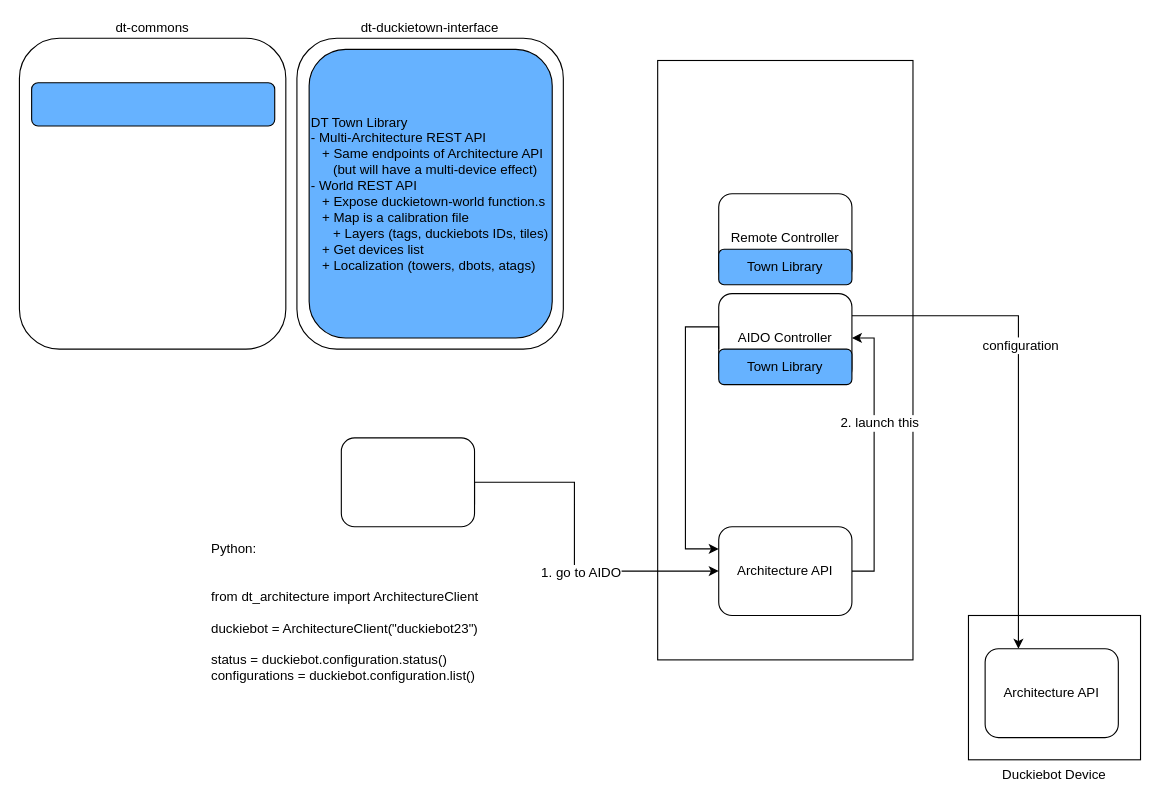
Image size: 1160x803. Some labels were removed from this diagram. The centre of each missing label's shape, as x and y in pixels:
Autolab IFace: pixel 407 482
DT Architecture Library - Architecture API Client: pixel 153 104
